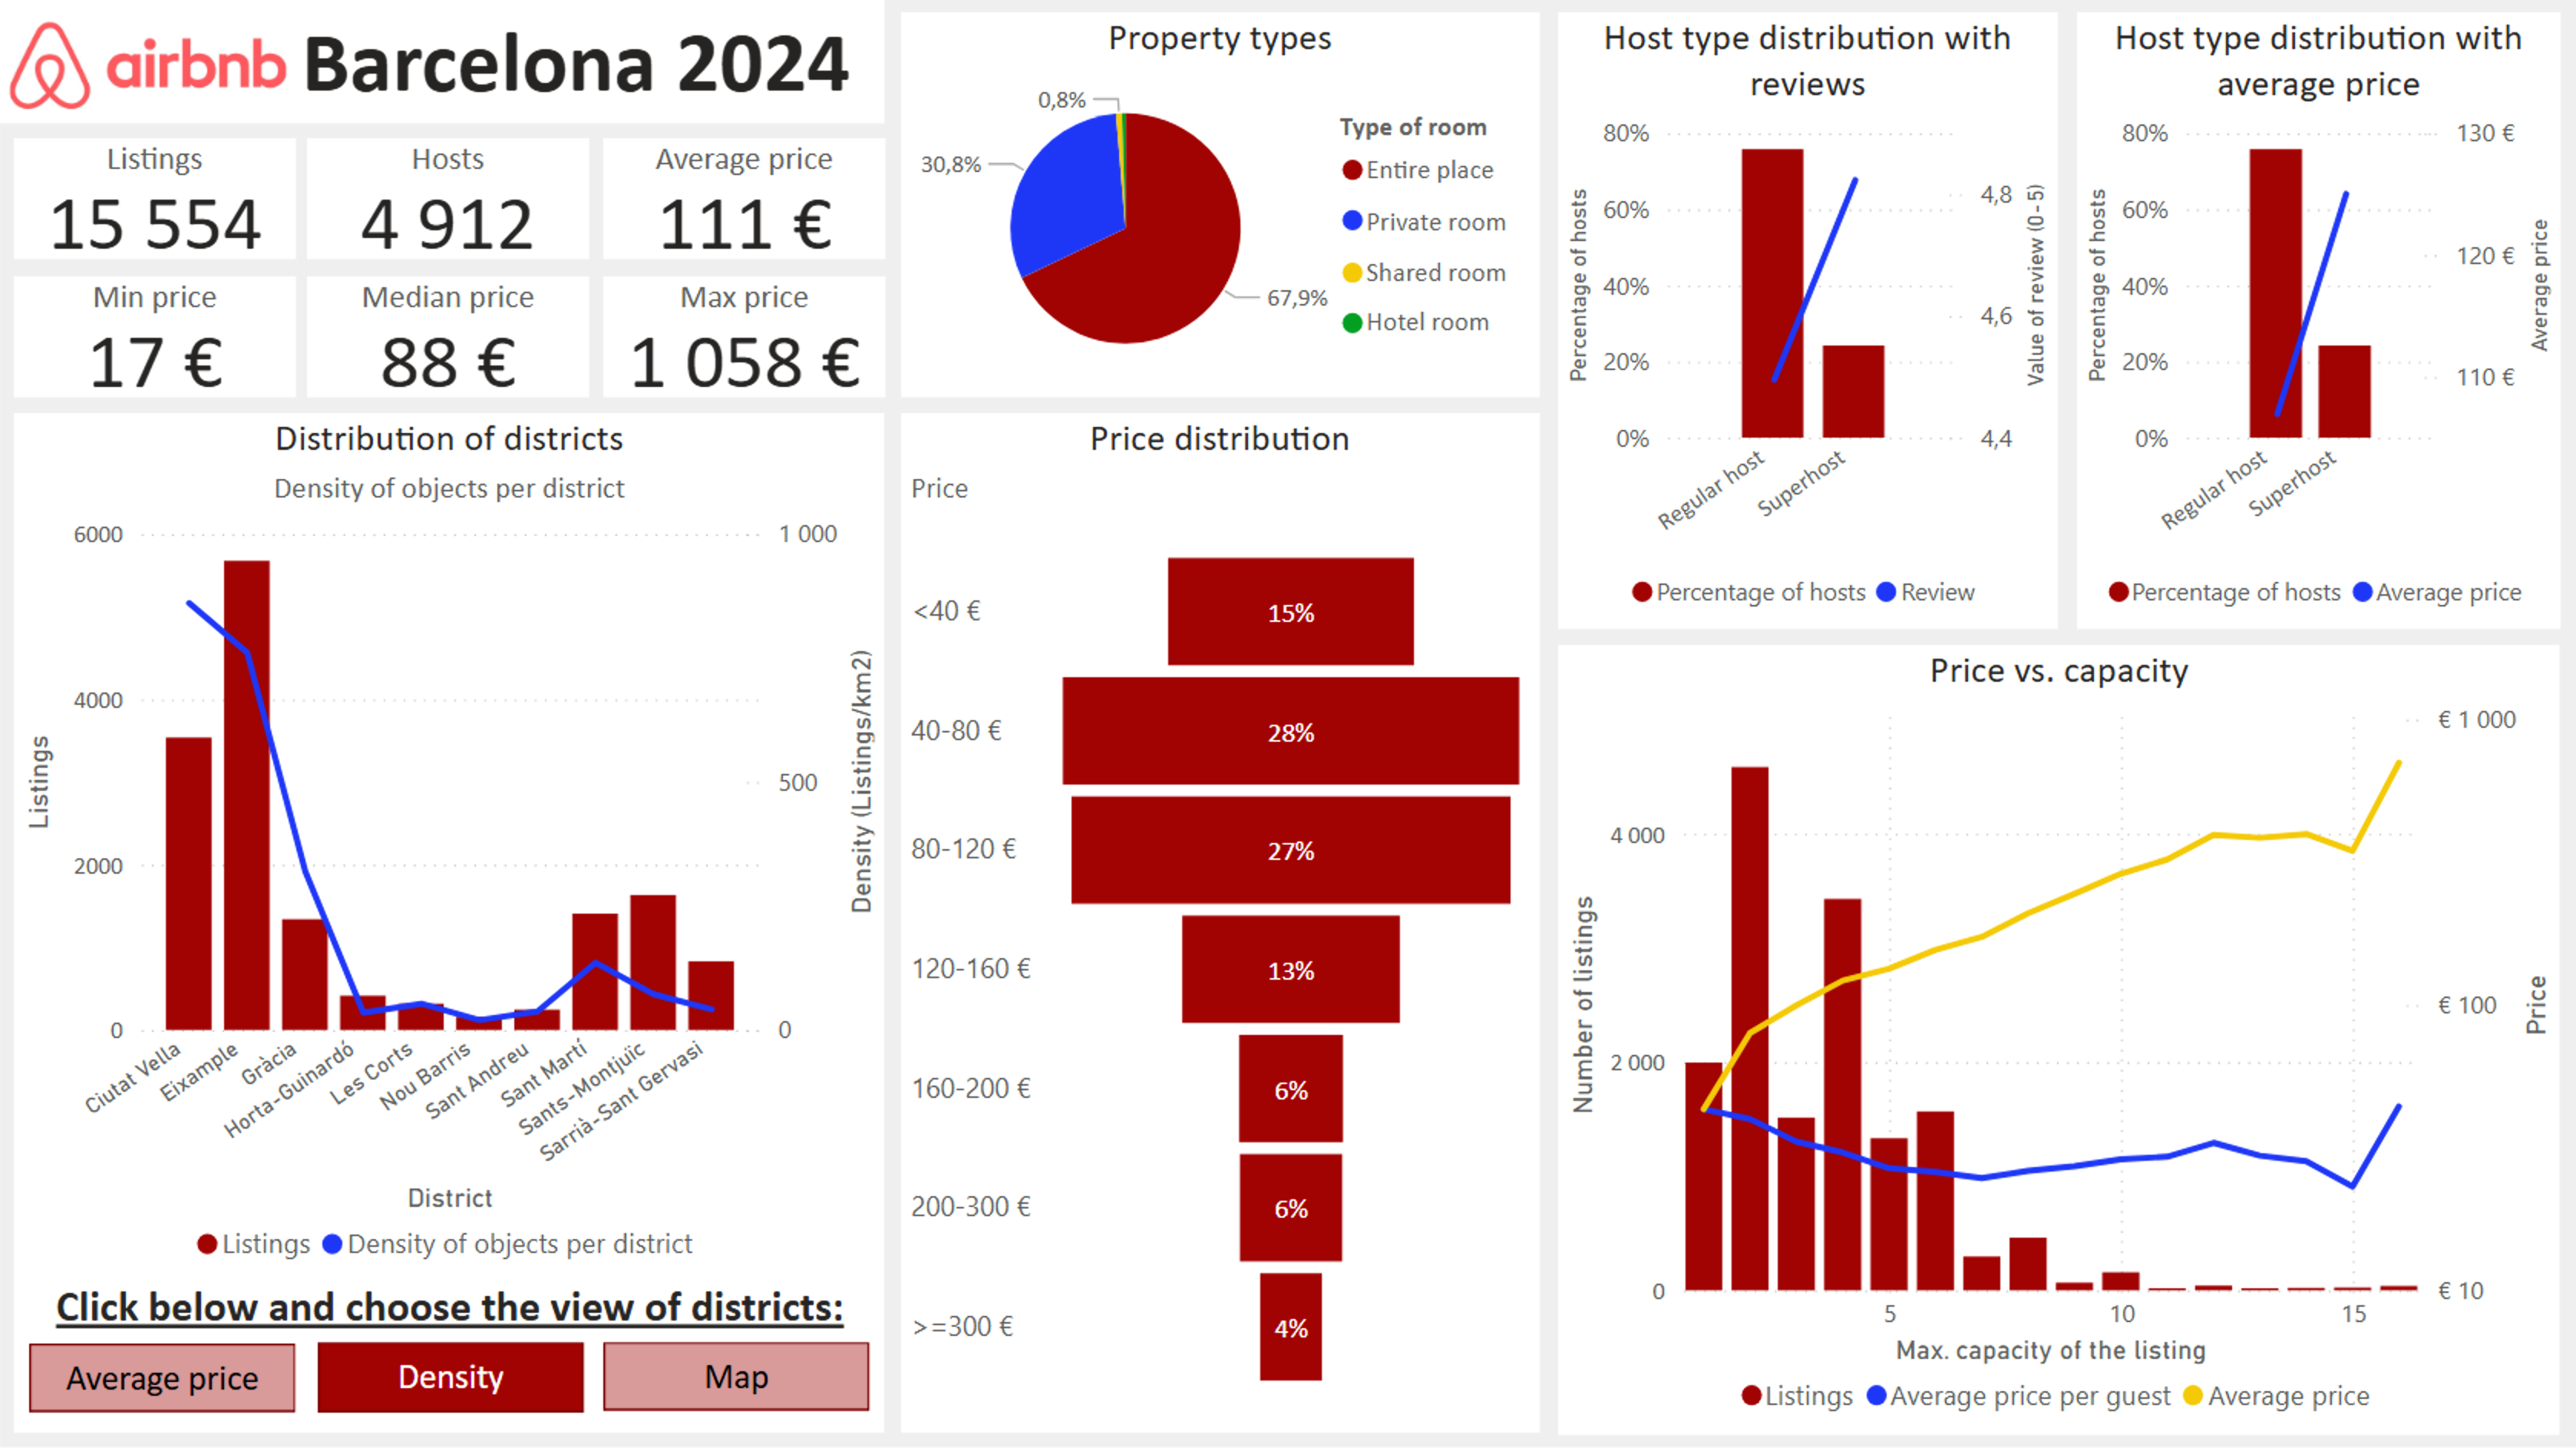

This screenshot's page, from the dashboard's own definition file:
{"tool":"powerbi","page":{"name":"Report","canvas":[1280,720],"ordinal":0},"visuals":[{"type":"shape","box":[0,0,1279.8,719.1],"z":0},{"type":"textbox","box":[6.8,206,432.4,506.2],"z":1000},{"type":"textbox","box":[0,0,439,62.2],"z":2000},{"type":"image","box":[0,3.9,146.7,58.3],"z":3000},{"type":"pieChart","title":"Property types","fields":{"Y":["listings_raw_cleansed_by_me.id"],"Category":["listings_raw_cleansed_by_me.room_type"]},"box":[447,6.8,316.8,191.4],"z":4000},{"type":"lineStackedColumnComboChart","title":"Distribution of districts","fields":{"Category":["Districts.neighbourhood_group_cleansed"],"Y":["Districts.Count"],"Y2":["Districts.Density objects per district"]},"box":[6.8,206,432.4,431.4],"z":5000},{"type":"lineStackedColumnComboChart","title":"Price vs. capacity","fields":{"Category":["listings_raw_cleansed_by_me.accommodates"],"Y":["listings_raw_cleansed_by_me.id"],"Y2":["listings_raw_cleansed_by_me.Price per person","listings_raw_cleansed_by_me.price"]},"box":[773.4,320.6,497.5,391.6],"z":6000},{"type":"lineStackedColumnComboChart","title":"Host type distribution with reviews","fields":{"Category":["listings_raw_cleansed_by_me.host_is_superhost"],"Y":["listings_raw_cleansed_by_me.id"],"Y2":["listings_raw_cleansed_by_me.review_scores_rating"]},"box":[773.4,6.8,247.8,306.1],"z":7000},{"type":"funnel","title":"Price distribution","fields":{"Category":["listings_raw_cleansed_by_me.Price_grouping"],"Y":["listings_raw_cleansed_by_me.id"]},"box":[447,206,316.8,506.2],"z":8000},{"type":"shape","box":[299.3,667,132.1,34],"z":11000},{"type":"shape","title":"Average price","box":[14.8,667.4,132.3,34],"z":12000},{"type":"shape","box":[157.4,667,132.1,35],"z":13000},{"type":"card","title":"Listings","fields":{"Values":["listings_raw_cleansed_by_me.id"]},"box":[6.8,69,139.9,60.2],"z":15000},{"type":"card","title":"Hosts","fields":{"Values":["listings_raw_cleansed_by_me.host_id"]},"box":[152.6,69,139.9,60.2],"z":16000},{"type":"card","title":"Average price","fields":{"Values":["listings_raw_cleansed_by_me.price"]},"box":[299.3,69,139.9,60.2],"z":17000},{"type":"card","title":"Min price","fields":{"Values":["listings_raw_cleansed_by_me.price"]},"box":[6.8,138,139.9,60],"z":18000},{"type":"card","title":"Median price","fields":{"Values":["listings_raw_cleansed_by_me.price"]},"box":[152.6,138,139.9,60],"z":19000},{"type":"card","title":"Max price","fields":{"Values":["listings_raw_cleansed_by_me.price"]},"box":[299.3,138,139.9,60],"z":20000},{"type":"lineStackedColumnComboChart","title":"Host type distribution with average price","fields":{"Category":["listings_raw_cleansed_by_me.host_is_superhost"],"Y":["listings_raw_cleansed_by_me.id"],"Y2":["listings_raw_cleansed_by_me.price"]},"box":[1030.9,6.8,240,306.1],"z":21000},{"type":"textbox","box":[7.8,630.6,431.4,36],"z":22000}]}

Visuals, with their boxes in screenshot pixels (x1, y1, x2, y2), scaled from the page's 1280x720 canvas onto the 2576x1448 screenshot:
shape: <bbox>0, 0, 2575, 1446</bbox>
textbox: <bbox>14, 415, 884, 1433</bbox>
textbox: <bbox>0, 0, 883, 125</bbox>
image: <bbox>0, 8, 296, 125</bbox>
"Property types" pieChart: <bbox>900, 14, 1537, 398</bbox>
"Distribution of districts" lineStackedColumnComboChart: <bbox>14, 415, 884, 1282</bbox>
"Price vs. capacity" lineStackedColumnComboChart: <bbox>1557, 645, 2558, 1433</bbox>
"Host type distribution with reviews" lineStackedColumnComboChart: <bbox>1557, 14, 2055, 630</bbox>
"Price distribution" funnel: <bbox>900, 415, 1537, 1433</bbox>
shape: <bbox>603, 1341, 868, 1410</bbox>
"Average price" shape: <bbox>30, 1342, 296, 1410</bbox>
shape: <bbox>317, 1341, 583, 1412</bbox>
"Listings" card: <bbox>14, 139, 296, 260</bbox>
"Hosts" card: <bbox>307, 139, 589, 260</bbox>
"Average price" card: <bbox>603, 139, 884, 260</bbox>
"Min price" card: <bbox>14, 277, 296, 398</bbox>
"Median price" card: <bbox>307, 277, 589, 398</bbox>
"Max price" card: <bbox>603, 277, 884, 398</bbox>
"Host type distribution with average price" lineStackedColumnComboChart: <bbox>2075, 14, 2558, 630</bbox>
textbox: <bbox>15, 1268, 884, 1341</bbox>
